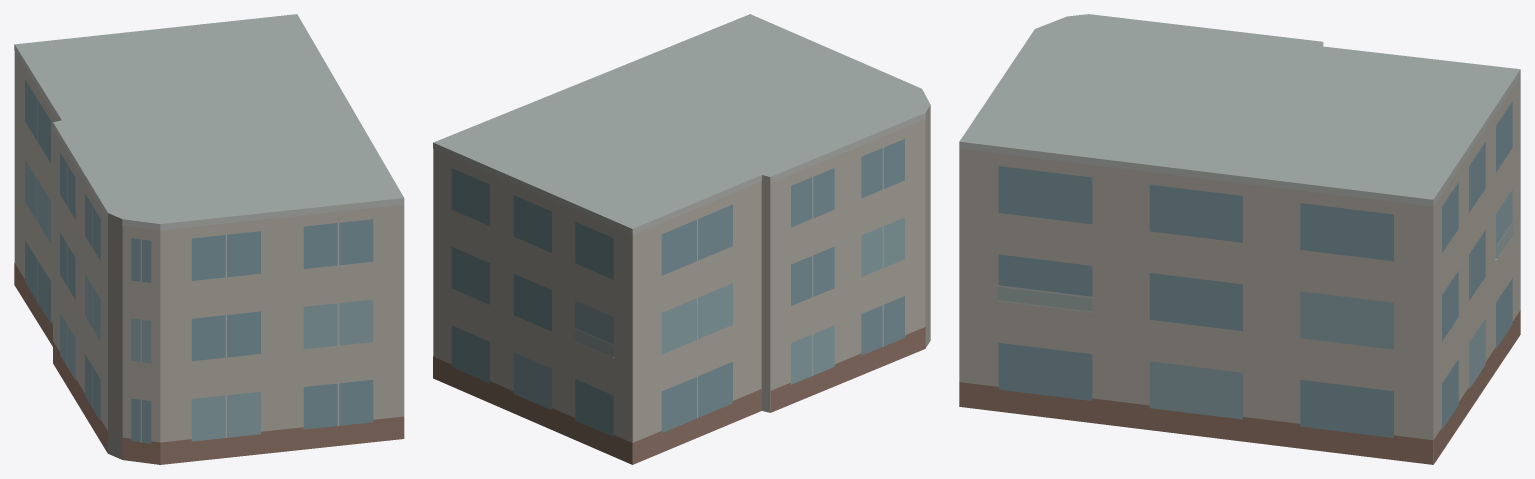
File: survey-upis-32718309.glb
3 renders of one model, left to right at view 1: azimuth 30°, elevation 25°; view 2: azimuth 150°, elevation 25°; view 3: azimuth 270°, elevation 25°, orthographic. The views are drawn at different scales.
Parts seen in each view (by area): view 1: survey-upis-32718309.tmp; view 2: survey-upis-32718309.tmp; view 3: survey-upis-32718309.tmp.
Boxes of the visible parts, x1,y1,x2,y2 form: survey-upis-32718309.tmp: [14, 14, 404, 464]; survey-upis-32718309.tmp: [433, 14, 930, 464]; survey-upis-32718309.tmp: [959, 14, 1520, 464].
Size of the model in its own units: 13.76 by 9.15 by 17.57.
